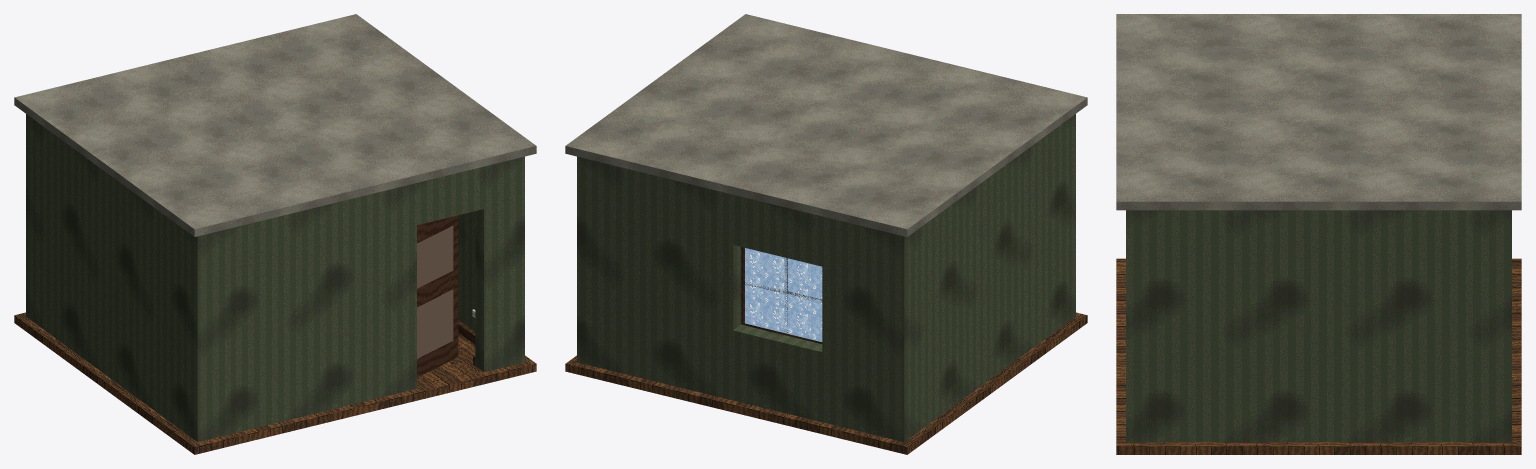
File: quarto.glb
3 renders of one model, left to right at view 1: azimuth 30°, elevation 25°; view 2: azimuth 150°, elevation 25°; view 3: azimuth 270°, elevation 25°, orthographic. The views are drawn at different scales.
Parts seen in each view (by area): view 1: wallpaper-col, plaster-col, parquet-col, flat.026, wood_dark; view 2: wallpaper-col, plaster-col, parquet-col, frost, wood_dark; view 3: wallpaper-col, plaster-col, parquet-col.
Part boxes in pixels (left/top/right/bottom): wallpaper-col: left=26, top=114, right=524, bottom=441; plaster-col: left=14, top=14, right=536, bottom=236; parquet-col: left=14, top=312, right=536, bottom=454; flat.026: left=417, top=226, right=453, bottom=358; wood_dark: left=417, top=215, right=475, bottom=377; wallpaper-col: left=577, top=114, right=1075, bottom=441; plaster-col: left=565, top=14, right=1087, bottom=236; parquet-col: left=565, top=312, right=1087, bottom=454; frost: left=745, top=248, right=822, bottom=341; wood_dark: left=741, top=247, right=822, bottom=343; wallpaper-col: left=1126, top=210, right=1511, bottom=442; plaster-col: left=1116, top=14, right=1521, bottom=210; parquet-col: left=1116, top=258, right=1521, bottom=454.
Size of the model in its own units: 4.6 by 2.9 by 4.2.
37 materials, 13 textured.
